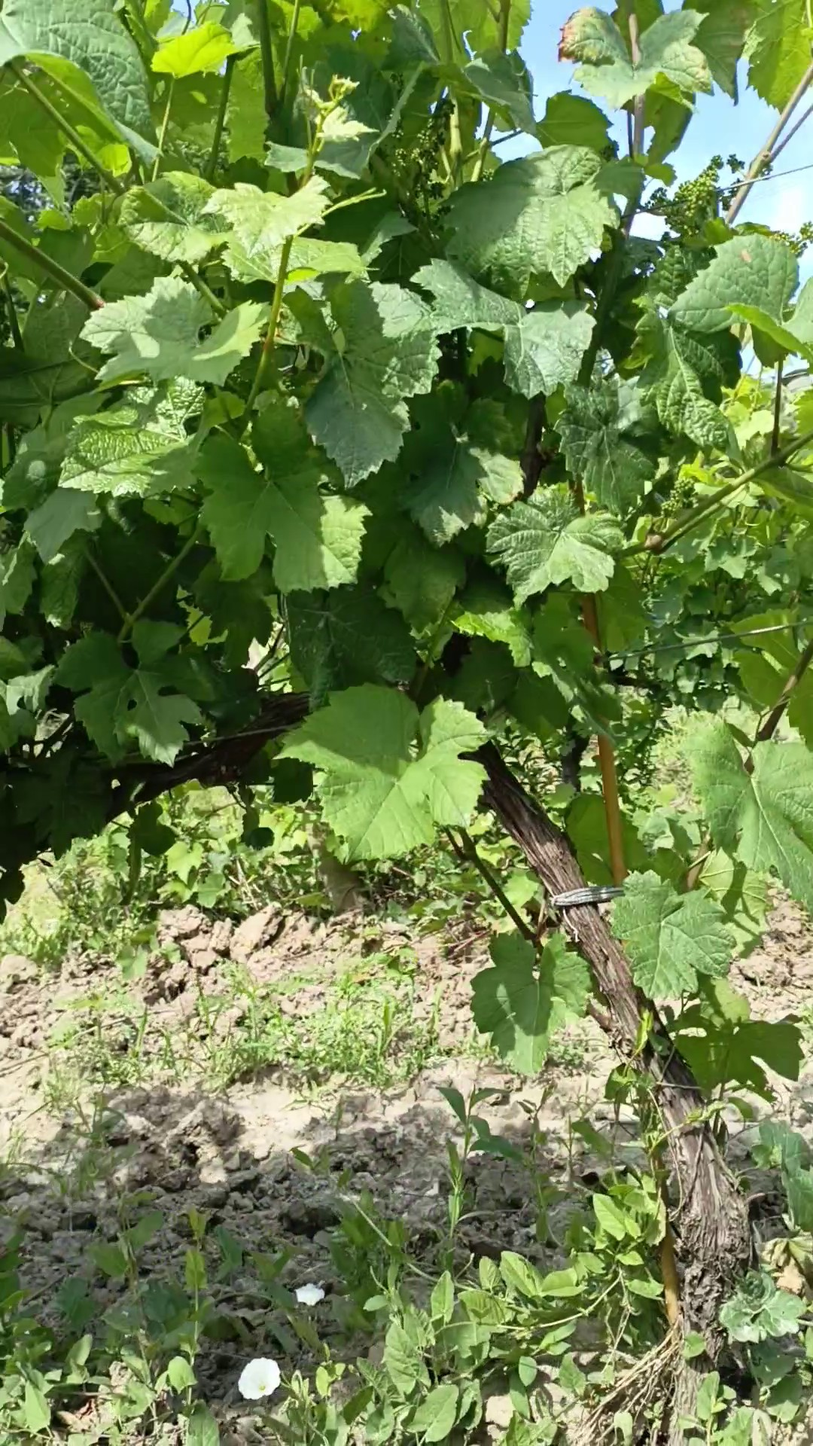vine_trunk: (640, 1043, 749, 1330), (480, 745, 581, 894), (565, 905, 647, 1061)
